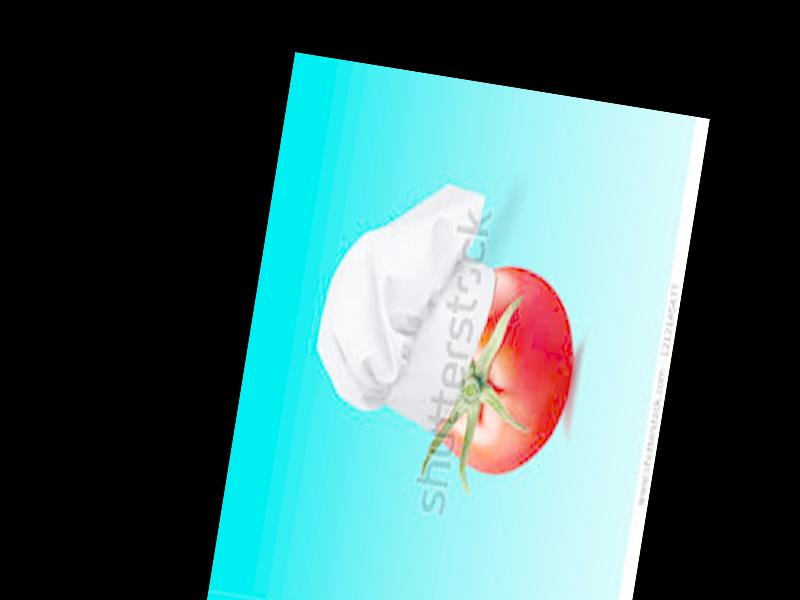Tomato: (429, 258, 585, 480)
